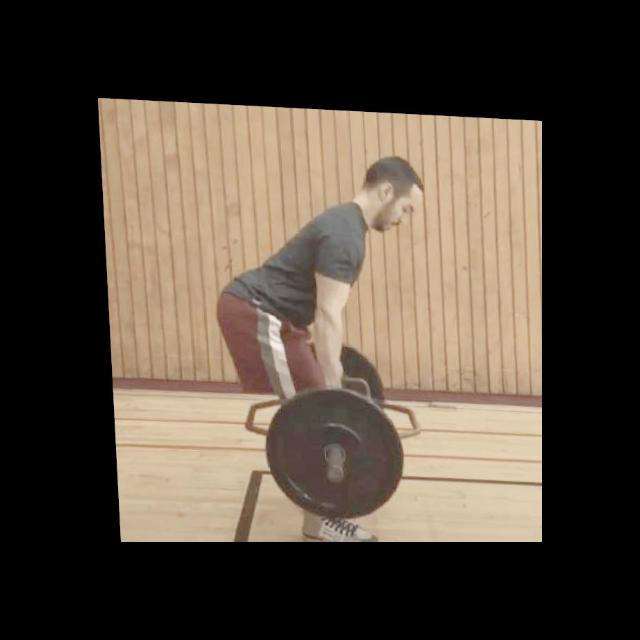barbell: (254, 378, 407, 523)
